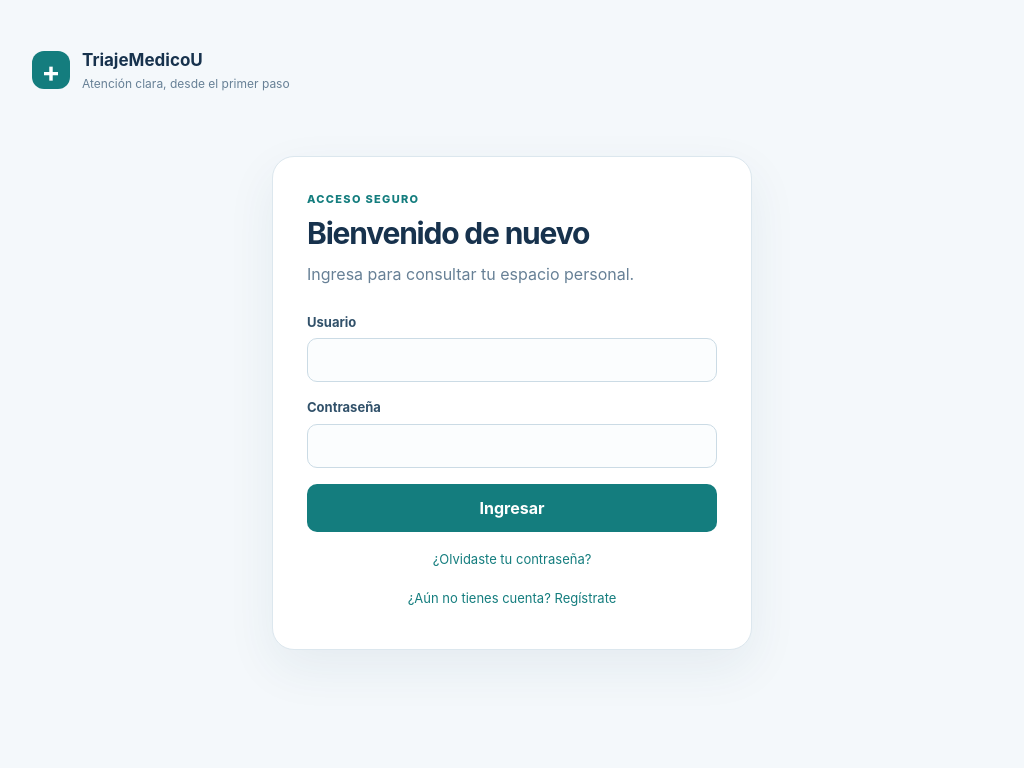
Test: authentication flow › prevents invalid registration submission
Check: the heading "Bienvenido de nuevo" is shown, box [307, 215, 589, 251]
Click the button "¿Aún no tienes cuenta? Regístrate" at (512, 599), box [402, 583, 622, 614]
(page scrolled)
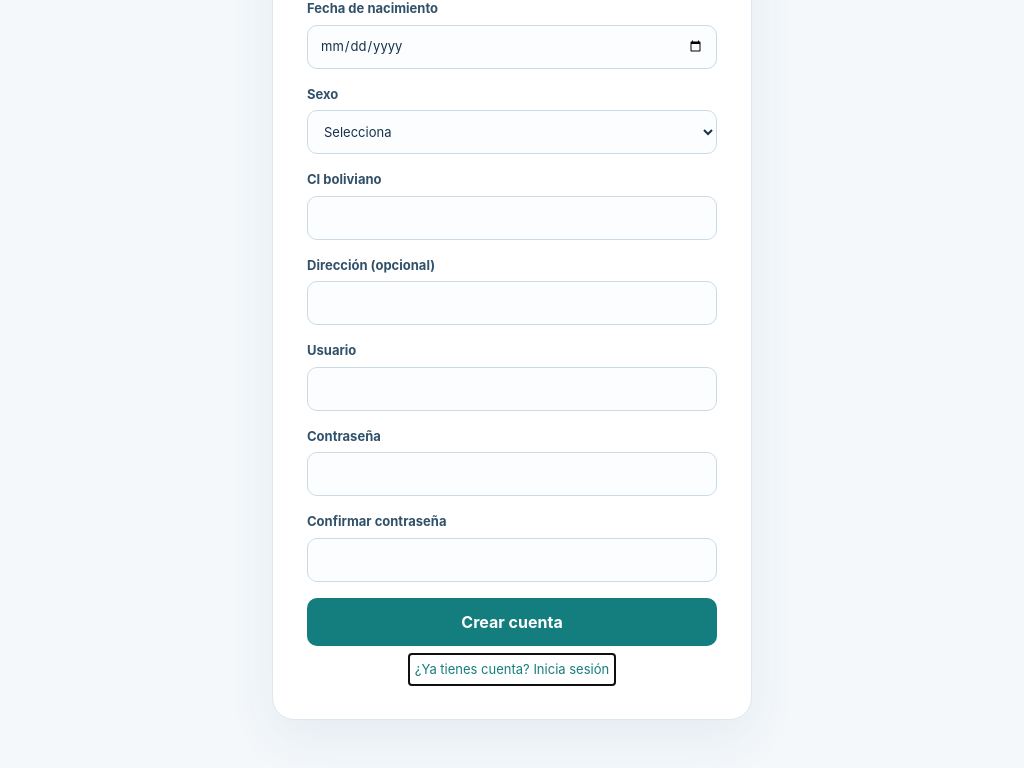
Click the button "Crear cuenta" at (512, 622), box [307, 598, 717, 646]
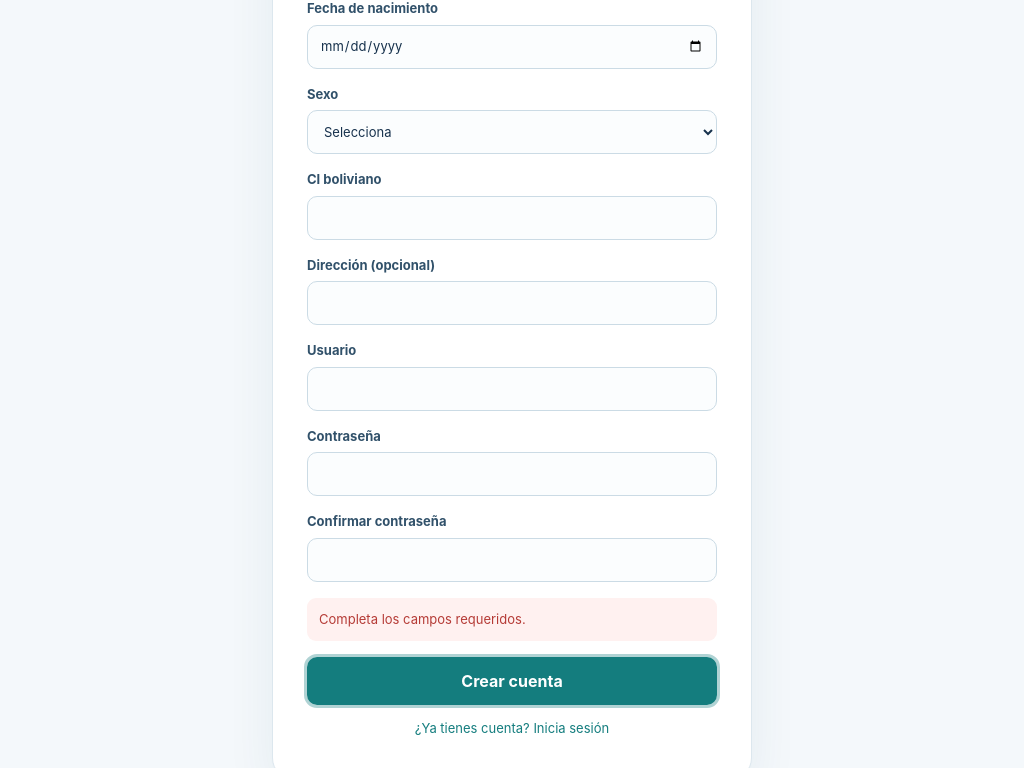
Check: the message reads "Completa los campos requeridos.", box [319, 610, 526, 626]
